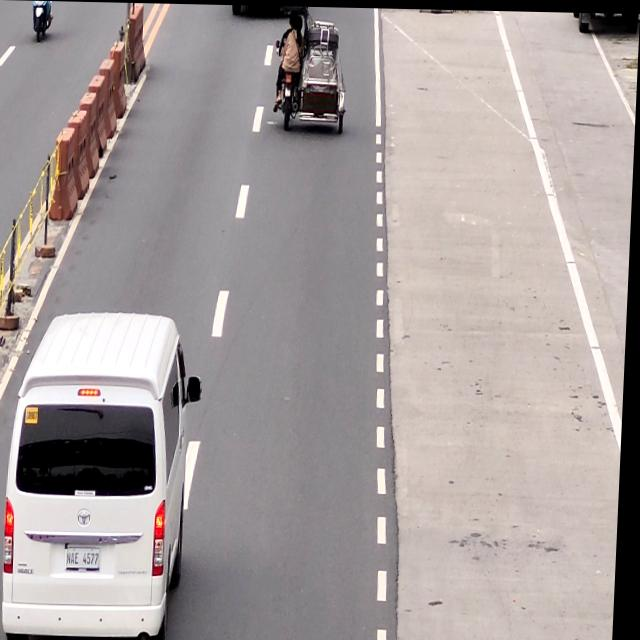Car: (4, 310, 200, 640)
License-Plate: (70, 543, 108, 573)
Tricycle: (274, 12, 352, 138)
